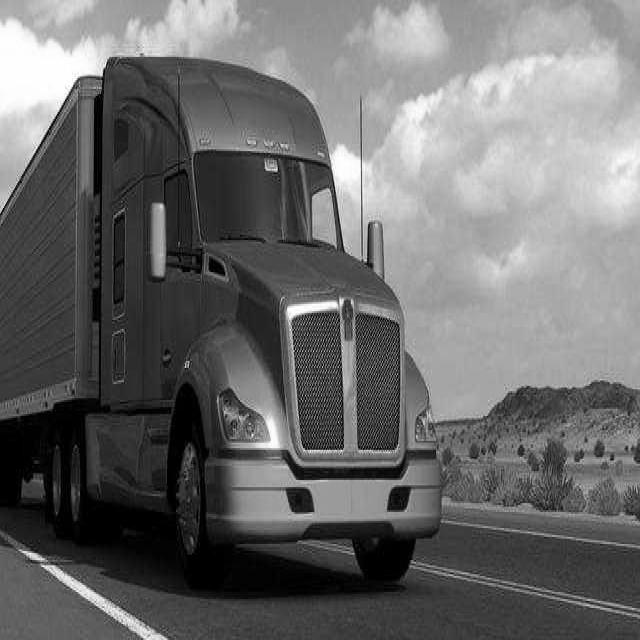Truck: (0, 58, 441, 583)
